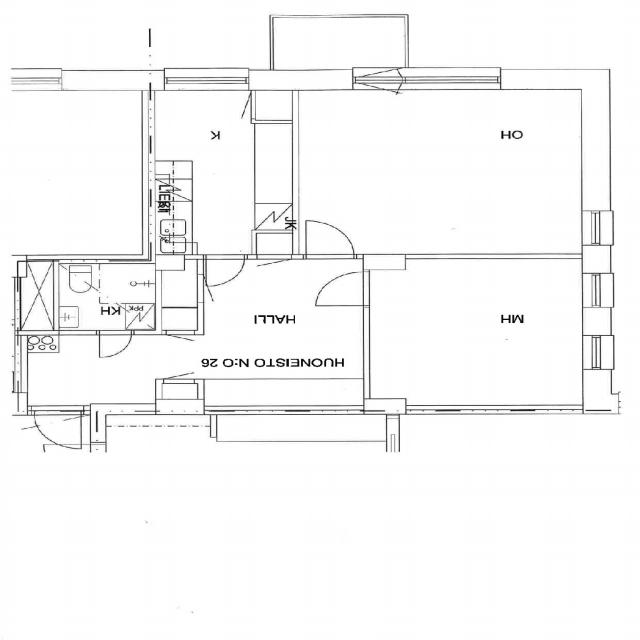door: (356, 37, 402, 90), (356, 70, 402, 122), (306, 220, 354, 259), (315, 272, 370, 306), (34, 406, 80, 446), (197, 275, 243, 302), (206, 254, 244, 286), (213, 91, 255, 118), (257, 254, 291, 283), (99, 330, 131, 357), (164, 357, 194, 383), (166, 330, 194, 355)
